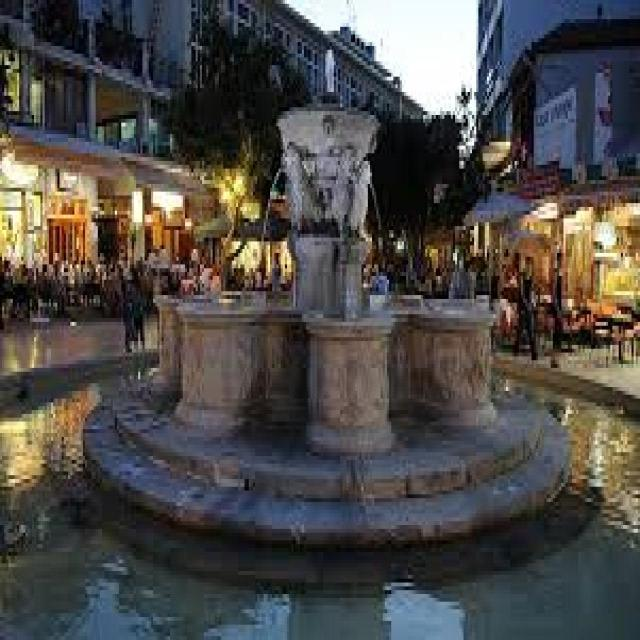Liontaria: (154, 106, 494, 463)
